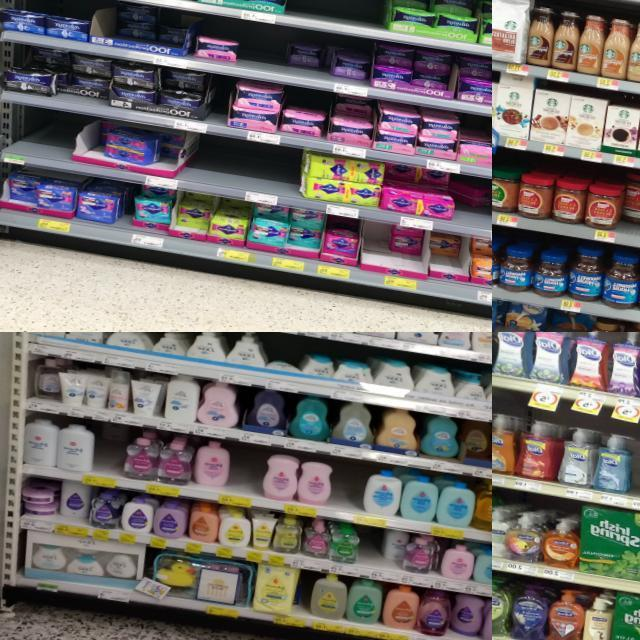Imprecise: (86, 120, 195, 177), (11, 42, 101, 102), (108, 1, 192, 56), (380, 163, 458, 220), (374, 46, 454, 97), (392, 223, 464, 279), (247, 206, 320, 258), (171, 194, 250, 239), (281, 43, 370, 81), (156, 66, 206, 122), (442, 175, 490, 225), (457, 51, 497, 110), (136, 184, 174, 233), (622, 169, 640, 229)
